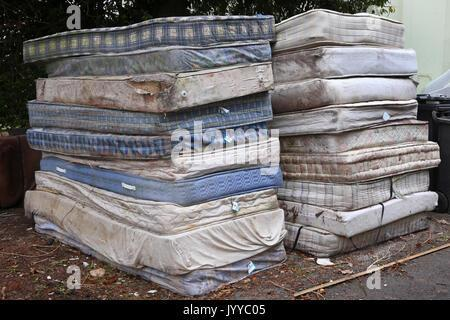Bed-Mattress: (15, 185, 286, 269), (22, 12, 279, 70), (22, 90, 276, 130), (277, 138, 444, 186), (273, 5, 413, 56)
